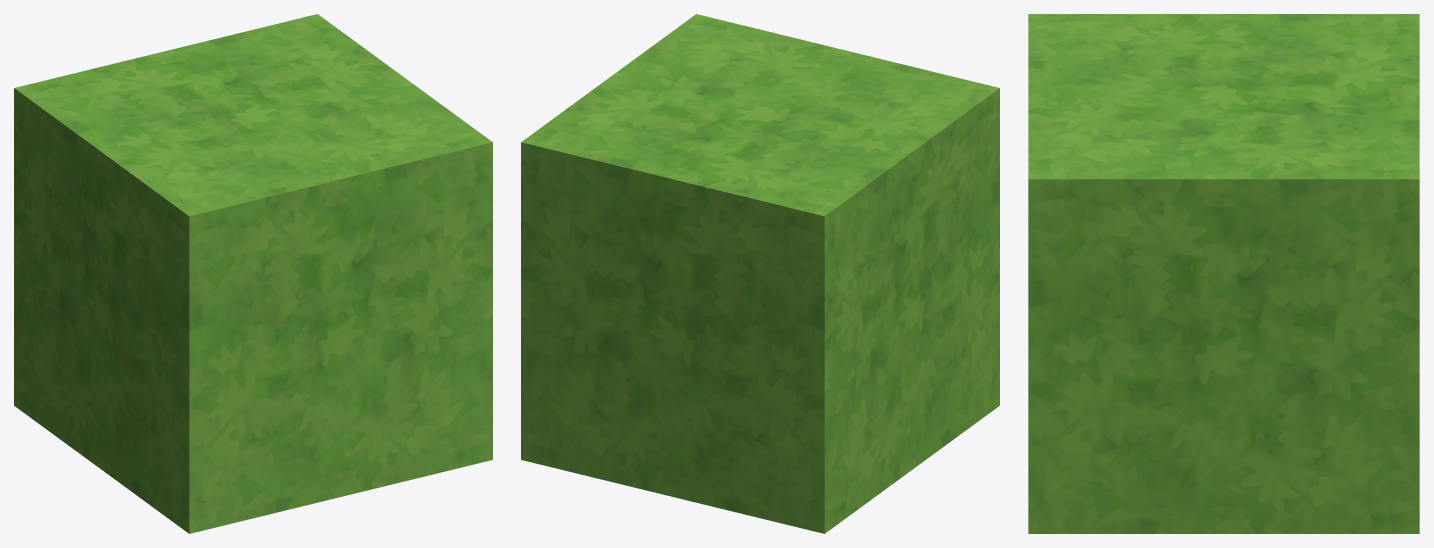
File: FullTile_1x1x4.fbx
3 views of the same model, side by side, from view 1: azimuth 30°, elevation 25°; view 2: azimuth 150°, elevation 25°; view 3: azimuth 270°, elevation 25° (orthographic). The views are drawn at different scales.
Visible parts, largest first — view 1: Corner_Grass_BaseTile; view 2: Corner_Grass_BaseTile; view 3: Corner_Grass_BaseTile.
Boxes of the visible parts, x1,y1,x2,y2 form: Corner_Grass_BaseTile: [14, 14, 492, 533]; Corner_Grass_BaseTile: [521, 14, 999, 533]; Corner_Grass_BaseTile: [1028, 14, 1419, 533].
Bounding box in the file's own units: 2 × 2 × 2.
